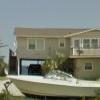Boat: (10, 63, 100, 100)
